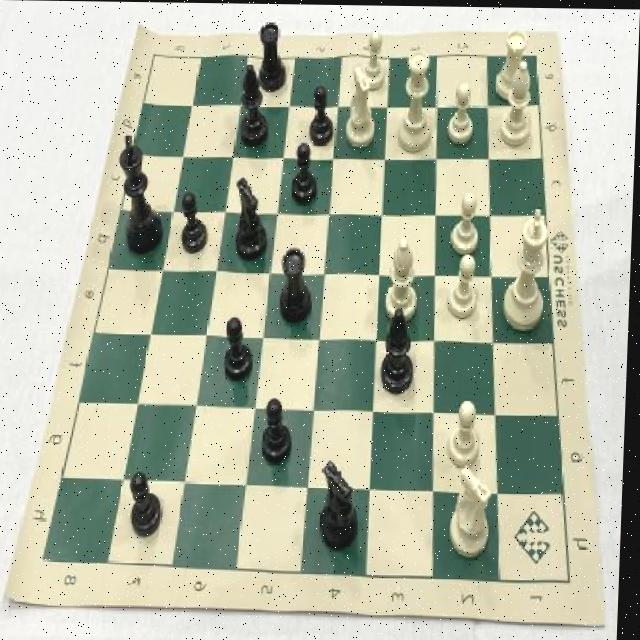bishop: (377, 305, 420, 401), (239, 57, 272, 153)
black-bishop: (114, 128, 172, 261)
black-king: (320, 456, 369, 555), (232, 170, 272, 268)
black-knight: (129, 465, 170, 543), (261, 388, 300, 467), (223, 309, 259, 391), (176, 188, 212, 260), (290, 139, 323, 208), (307, 80, 341, 146)
black-queen: (277, 239, 319, 328), (257, 11, 294, 94)
black-rook: (381, 231, 426, 327), (495, 56, 540, 151)
white-bishop: (497, 200, 556, 338)
white-king: (448, 461, 502, 564), (341, 61, 381, 151)
white-knight: (448, 393, 487, 469), (447, 247, 485, 324), (448, 184, 487, 257), (357, 24, 395, 92), (443, 77, 479, 143)
white-pawn: (395, 46, 441, 159)
white-queen: (488, 21, 535, 106)
